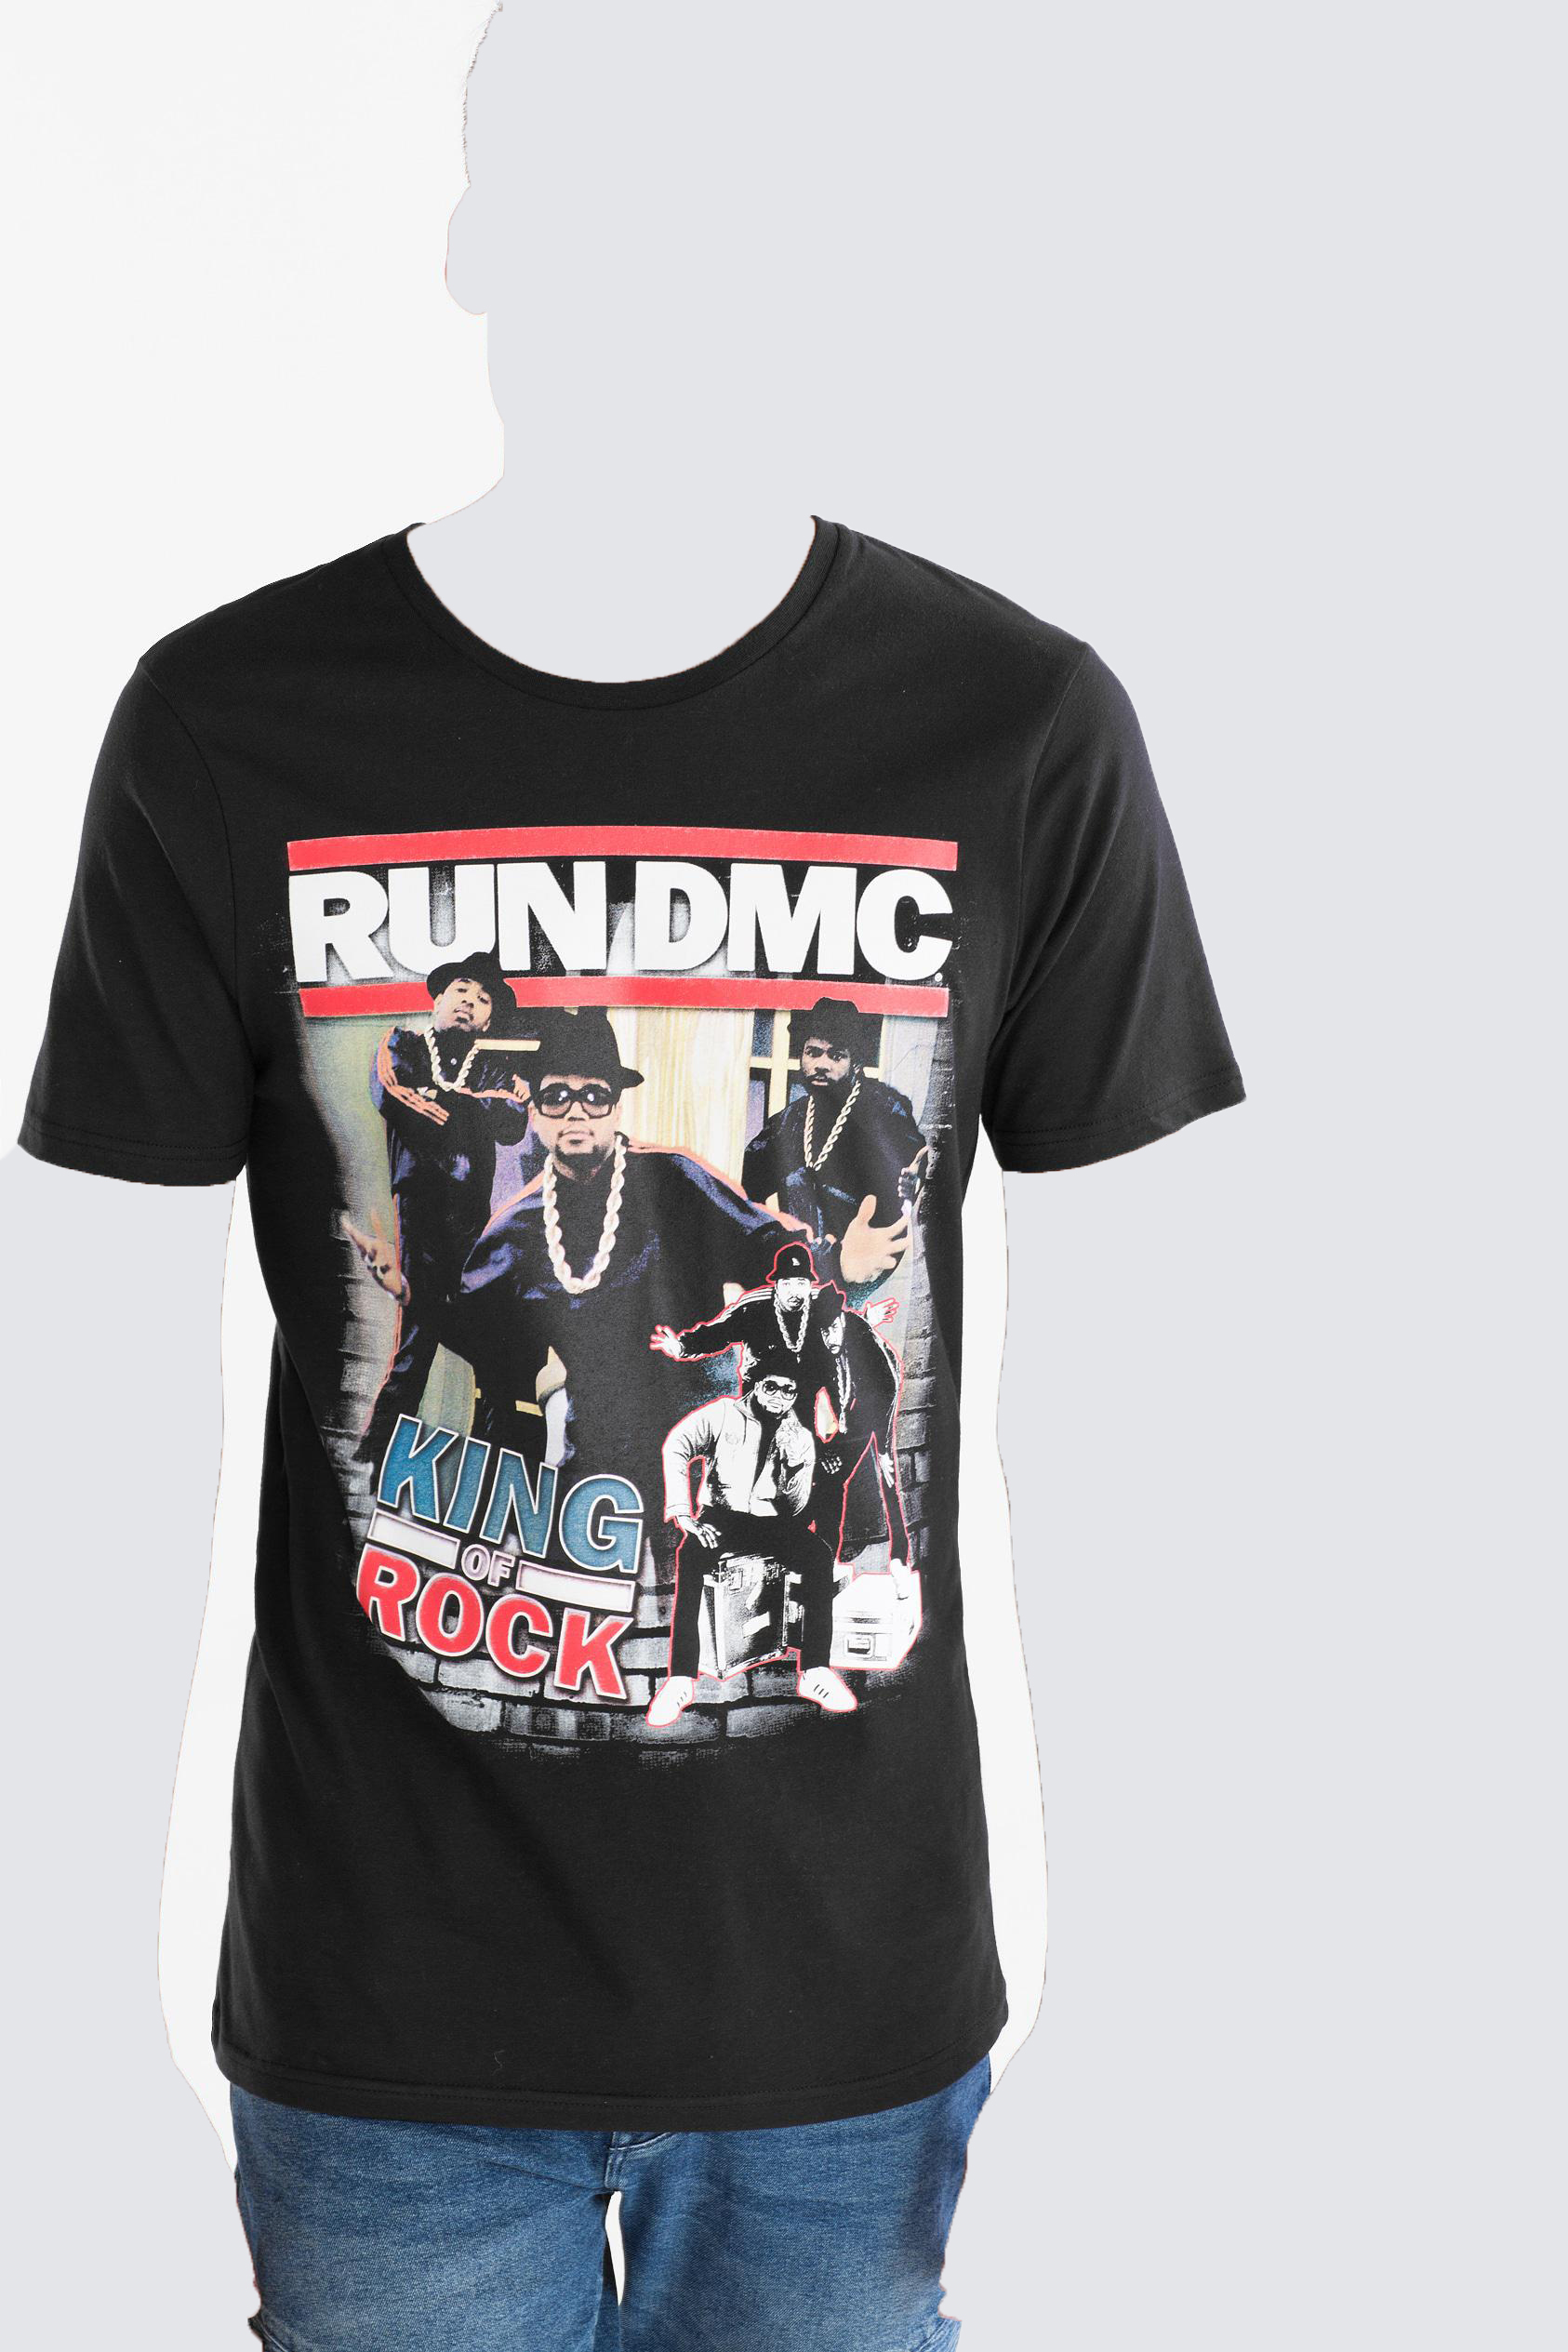teeshirt: (12, 511, 1262, 2142)
